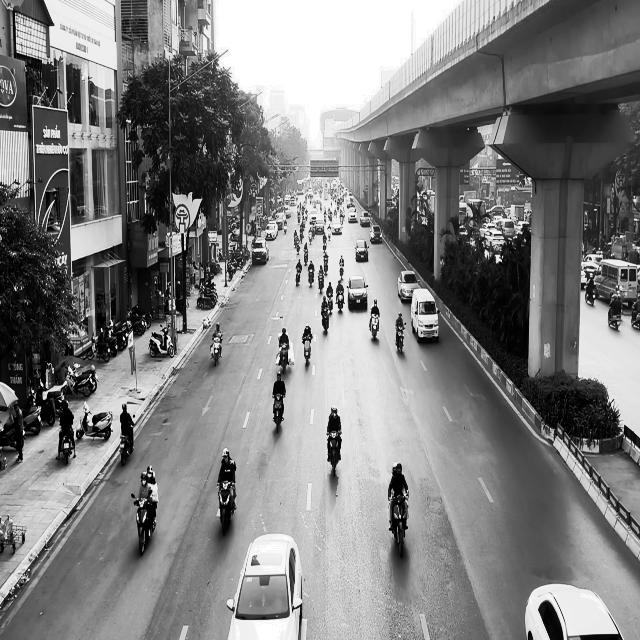car: (226, 533, 303, 639), (524, 582, 624, 640), (397, 270, 421, 301), (347, 275, 368, 310), (251, 237, 269, 265), (355, 240, 369, 262), (369, 224, 382, 242)
motorbike: (132, 492, 156, 556), (76, 401, 112, 440), (388, 492, 408, 557), (217, 480, 236, 535), (148, 322, 174, 358), (119, 414, 135, 466), (57, 424, 76, 464), (326, 431, 342, 476), (272, 392, 285, 433), (210, 334, 223, 366), (394, 322, 406, 354), (608, 304, 621, 329), (302, 334, 312, 364), (368, 314, 378, 340), (321, 305, 329, 333), (336, 287, 344, 311), (326, 293, 333, 312), (318, 271, 324, 293), (296, 265, 302, 286), (308, 268, 314, 287)
